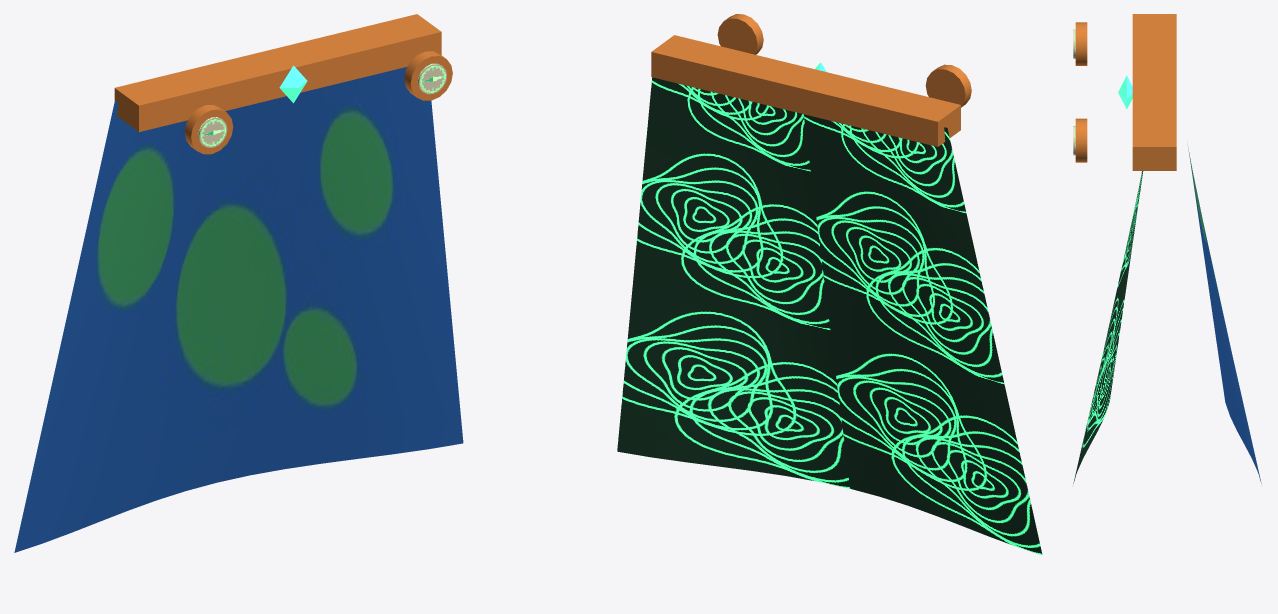
The model's file is back_eqsa3.glb.
3 views of the same model, side by side, from view 1: azimuth 30°, elevation 25°; view 2: azimuth 150°, elevation 25°; view 3: azimuth 270°, elevation 25° (orthographic). The views are drawn at different scales.
Bounding box in the file's own units: 3.19 × 3.23 × 1.31.
6 materials, 4 textured.
